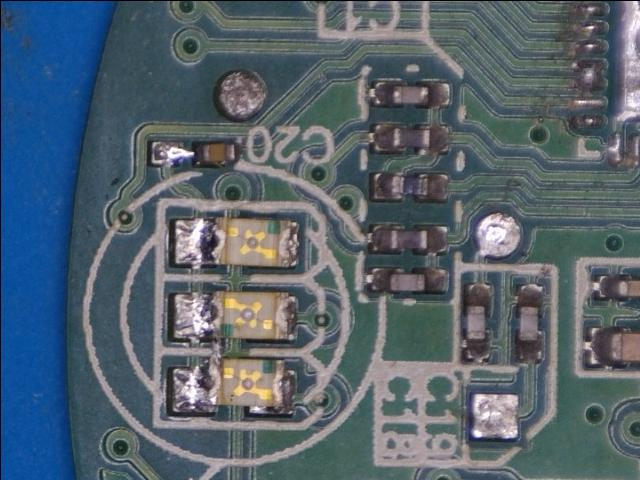Incorrect_installation: (171, 357, 297, 414), (172, 290, 300, 342), (173, 217, 299, 269), (151, 141, 236, 168)
Short_circuit: (172, 293, 222, 414), (151, 141, 224, 169), (572, 58, 609, 92)
